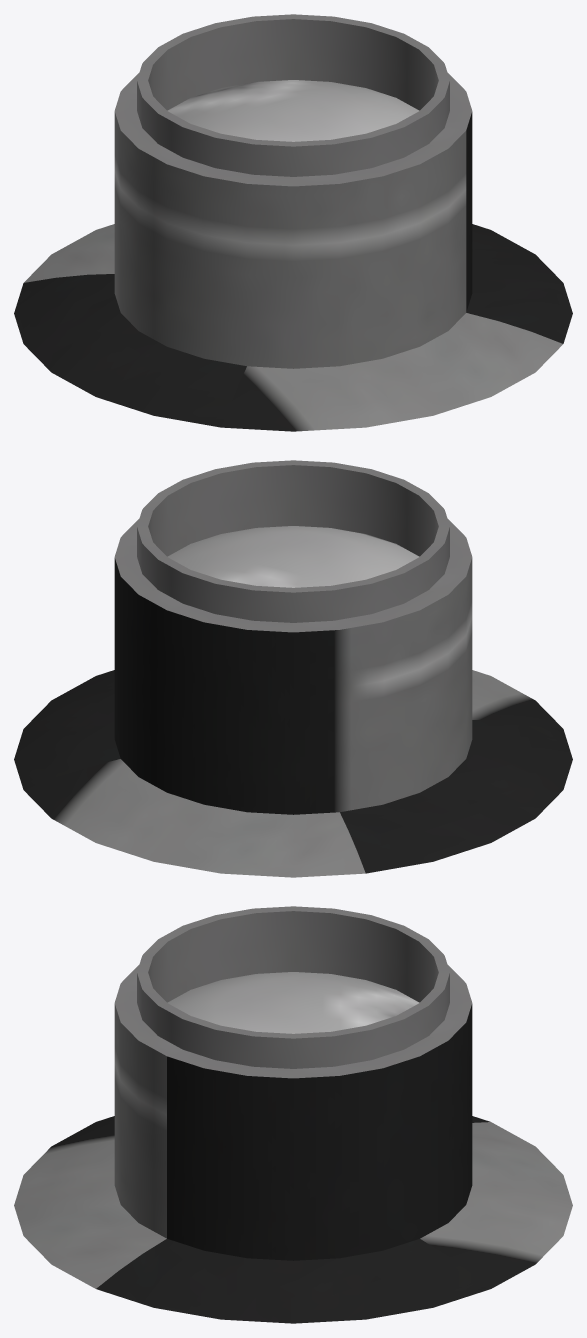
File: 4mv_vl_parachute_s0_1.obj
3 renders of one model, top to bottom at view 1: azimuth 30°, elevation 25°; view 2: azimuth 150°, elevation 25°; view 3: azimuth 270°, elevation 25°, orthographic.
Visible parts, largest first — view 1: mesh1, cap1; view 2: mesh1, cap1; view 3: mesh1, cap1.
Part boxes in pixels (x1,y1,x2,y2): mesh1: [14, 14, 572, 431]; cap1: [167, 80, 419, 141]; mesh1: [14, 460, 572, 877]; cap1: [167, 526, 419, 587]; mesh1: [14, 906, 572, 1323]; cap1: [167, 972, 419, 1033].
Size of the model in its own units: 0.625 by 0.2875 by 0.625.
